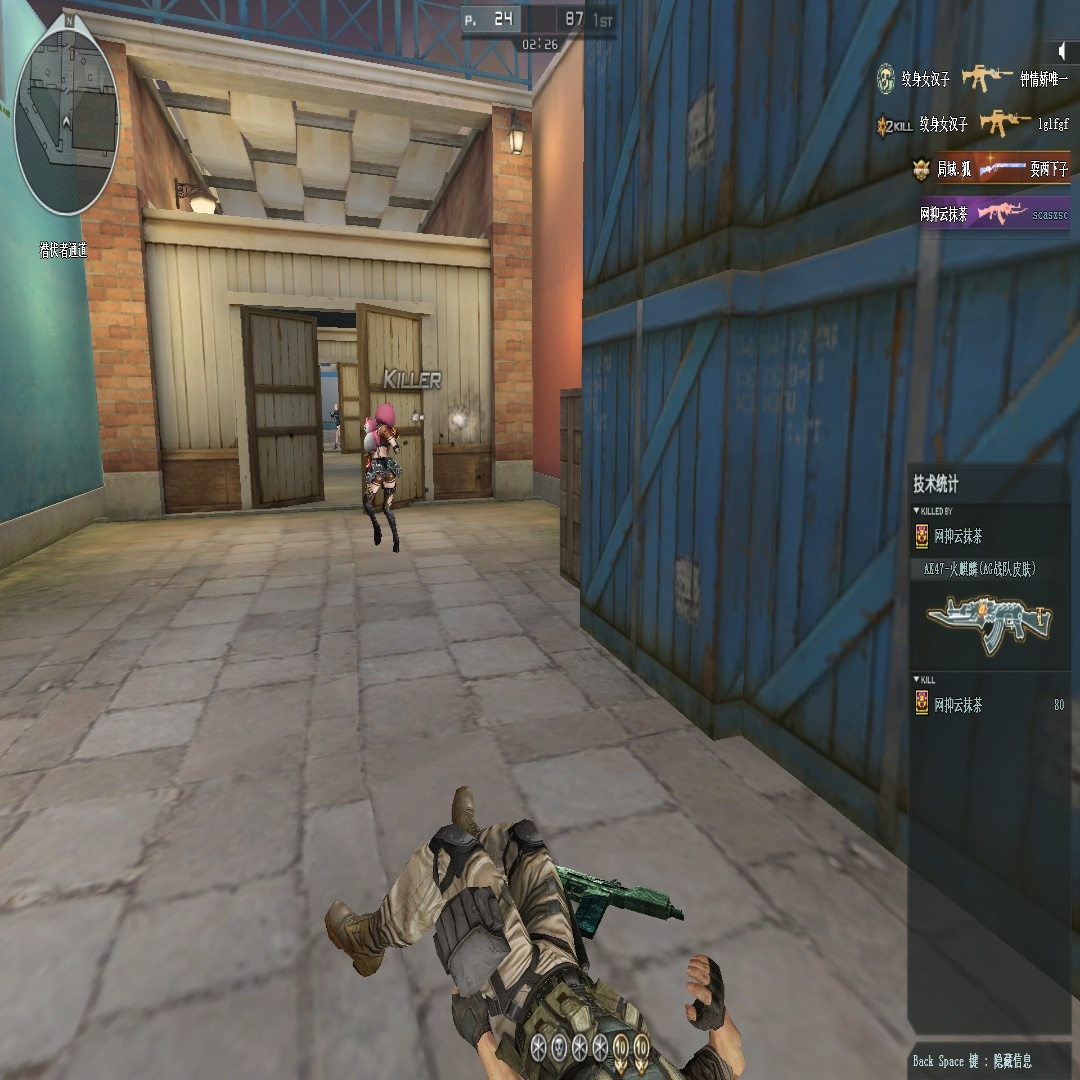p: (362, 402, 403, 554)
